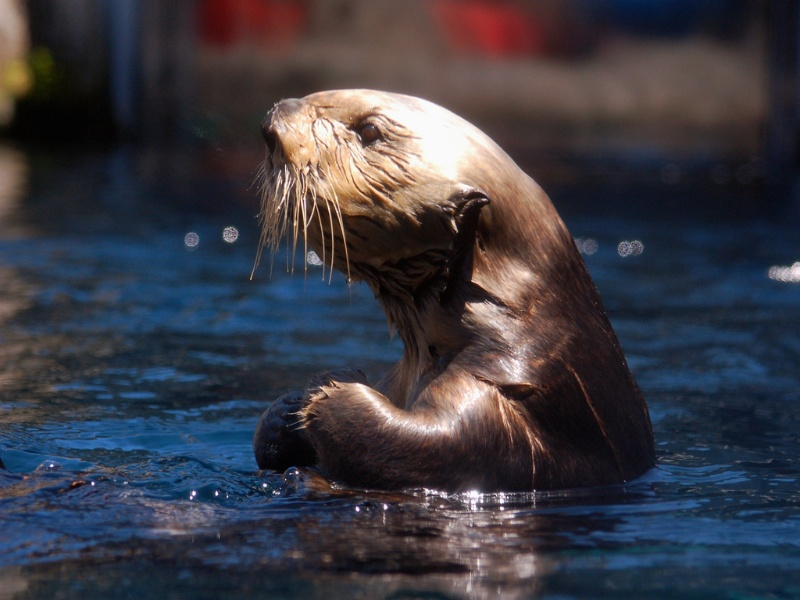minkish: (232, 83, 676, 505)
